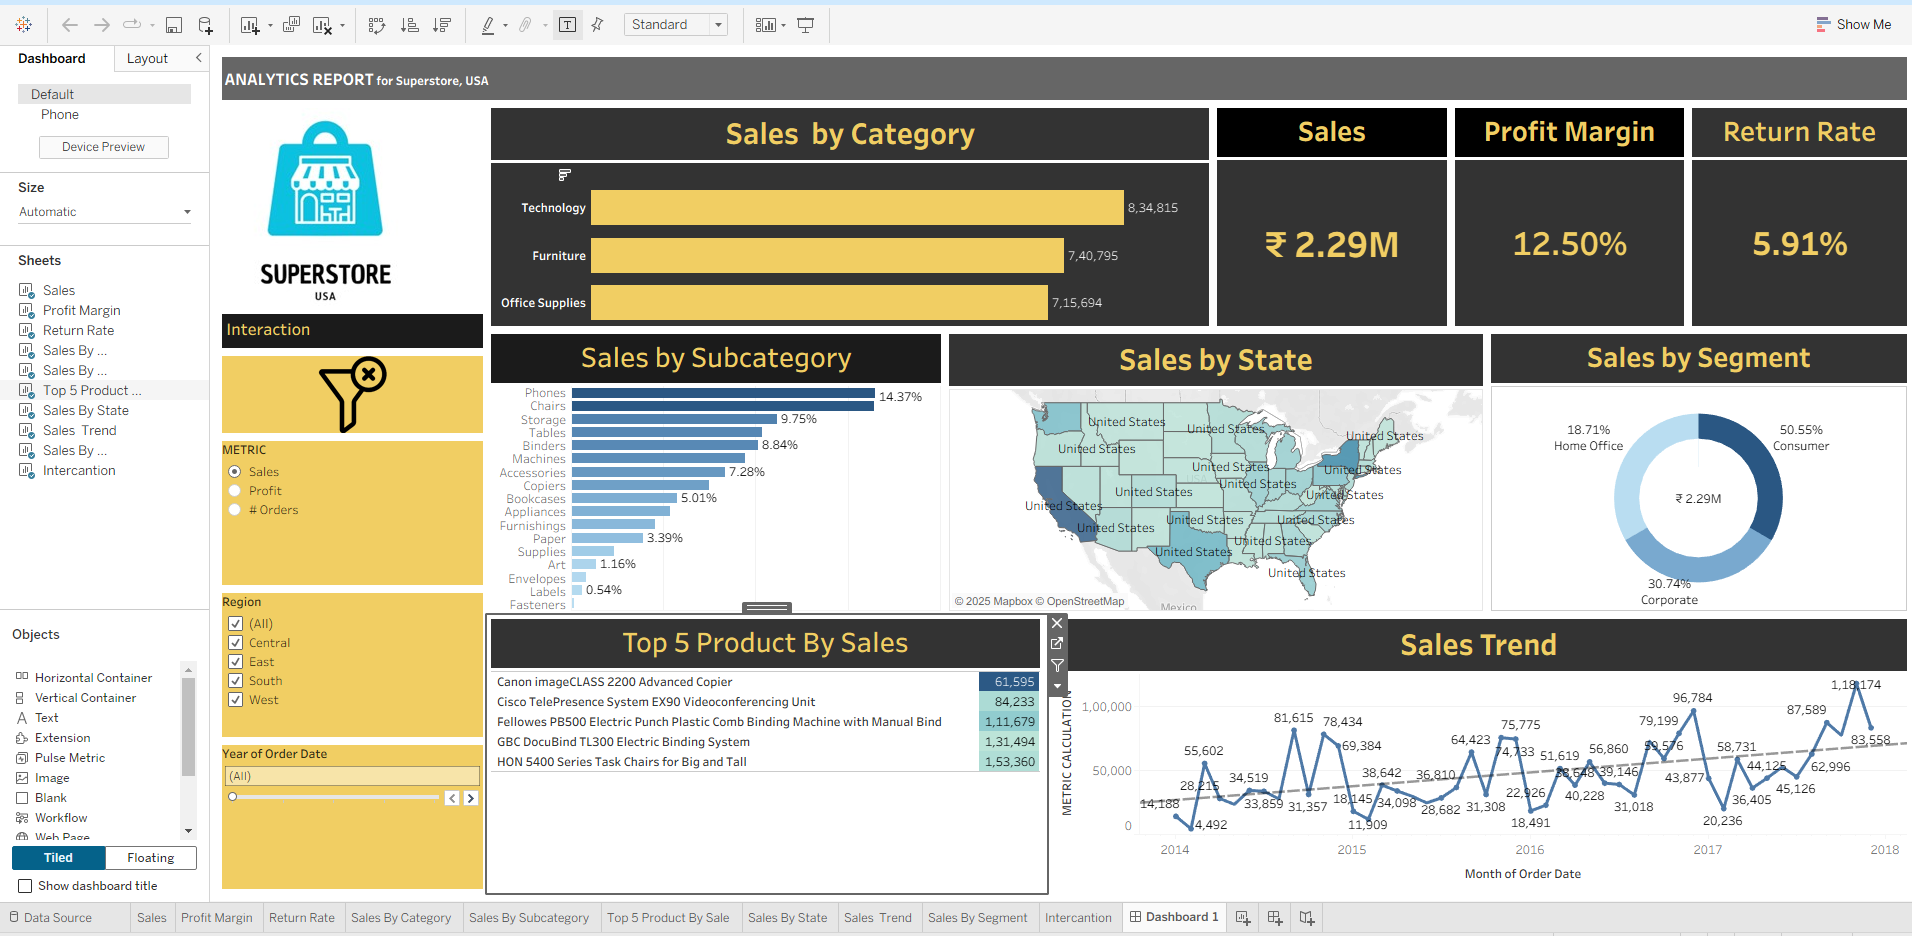

What the dashboard file says about the page in this screenshot:
{"tool":"tableau","page":{"name":"Dashboard 1","canvas":[1000,1000],"units":"permille","ordinal":0},"visuals":[{"type":"text","box":[4.7,9.3,990.6,59]},{"type":"image","param":"Image/Picture1.jpg","box":[4.7,68.4,157.2,241.2]},{"type":"worksheet","title":"Sales By Category","mark":"Automatic","rows":["Category"],"cols":["Calculation_864409691246317572"],"box":[161.9,68.4,425.2,264.6]},{"type":"worksheet","title":"Sales","mark":"Automatic","box":[587.1,68.4,139.1,264.6]},{"type":"worksheet","title":"Profit Margin","mark":"Automatic","box":[726.2,68.4,138.4,264.6]},{"type":"worksheet","title":"Return Rate","mark":"Automatic","box":[864.6,68.4,130.7,264.6]},{"type":"worksheet","title":"Intercantion","mark":"Automatic","box":[4.7,309.6,157.2,49.1]},{"type":"worksheet","title":"Sales By Subcategory","mark":"Automatic","rows":["Sub-Category"],"cols":["Calculation_864409691246317572"],"box":[161.9,332.9,268.4,332.9]},{"type":"worksheet","title":"Sales By State","mark":"Automatic","box":[430.2,332.9,317.1,332.9]},{"type":"worksheet","title":"Sales By Segment","mark":"Pie","rows":["Calculation_1818328387621650433","Calculation_1818328387621662723"],"box":[747.3,332.9,248,332.9]},{"type":"dashboard-object","box":[4.7,358.6,157.2,99.3]},{"type":"parameter","param":"[Parameters].[Sales Parameter]","box":[4.7,457.9,157.2,177.6]},{"type":"filter","title":"Sales By Segment","param":"[federated.1j12xi20oqyhag17gal7h1o19hlv].[none:Region:nk]","box":[4.7,635.5,157.2,177.6]},{"type":"worksheet","title":"Top 5 Product By Sale","mark":"Square","rows":["Product Name"],"box":[161.9,665.9,327.9,324.8]},{"type":"worksheet","title":"Sales  Trend","mark":"Automatic","rows":["Calculation_864409691246317572"],"cols":["Order Date"],"box":[489.8,665.9,505.6,324.8]},{"type":"filter","title":"Intercantion","param":"[federated.1j12xi20oqyhag17gal7h1o19hlv].[yr:Order Date:ok]","box":[4.7,813.1,157.2,177.6]}]}

Visuals, with their boxes on the dashboard's canvas, which has no fixed pixel size, in thousandths of its width and height (x1, y1, x2, y2). These are canvas units, not pixel positions in the 1912x936 screenshot, which may show the page scaled, cropped or inside an application window:
text: bbox=[5, 9, 995, 68]
image: bbox=[5, 68, 162, 310]
"Sales By Category" worksheet: bbox=[162, 68, 587, 333]
"Sales" worksheet: bbox=[587, 68, 726, 333]
"Profit Margin" worksheet: bbox=[726, 68, 865, 333]
"Return Rate" worksheet: bbox=[865, 68, 995, 333]
"Intercantion" worksheet: bbox=[5, 310, 162, 359]
"Sales By Subcategory" worksheet: bbox=[162, 333, 430, 666]
"Sales By State" worksheet: bbox=[430, 333, 747, 666]
"Sales By Segment" worksheet (Pie marks): bbox=[747, 333, 995, 666]
dashboard-object: bbox=[5, 359, 162, 458]
parameter: bbox=[5, 458, 162, 636]
"Sales By Segment" filter: bbox=[5, 636, 162, 813]
"Top 5 Product By Sale" worksheet (Square marks): bbox=[162, 666, 490, 991]
"Sales  Trend" worksheet: bbox=[490, 666, 995, 991]
"Intercantion" filter: bbox=[5, 813, 162, 991]
